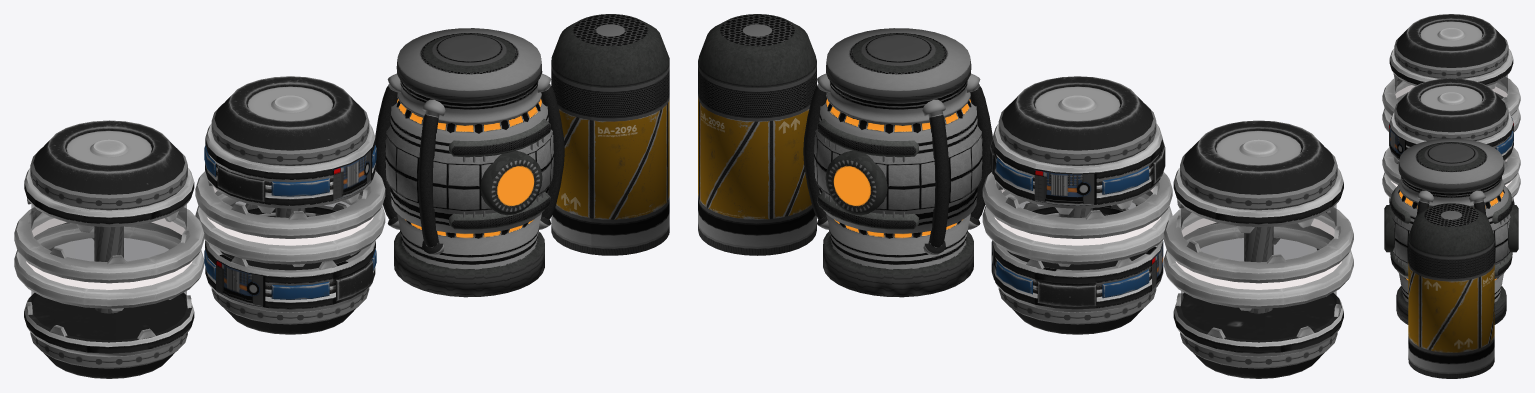
File: sci_-_fi_barrels_pack.glb
3 renders of one model, left to right at view 1: azimuth 30°, elevation 25°; view 2: azimuth 150°, elevation 25°; view 3: azimuth 270°, elevation 25°, orthographic. The views are drawn at different scales.
Visible parts, largest first — view 1: barrel_1, barrel_3_1, barrel_3_2, barrel_2; view 2: barrel_1, barrel_3_1, barrel_3_2, barrel_2; view 3: barrel_2, barrel_1, barrel_3_2, barrel_3_1.
Part boxes in pixels (<box>): barrel_1: <box>375,28,564,297</box>; barrel_3_1: <box>195,76,385,334</box>; barrel_3_2: <box>14,120,204,378</box>; barrel_2: <box>551,14,669,255</box>; barrel_1: <box>803,28,992,297</box>; barrel_3_1: <box>982,76,1172,334</box>; barrel_3_2: <box>1163,120,1353,378</box>; barrel_2: <box>698,14,816,255</box>; barrel_2: <box>1408,203,1494,378</box>; barrel_1: <box>1384,138,1518,324</box>; barrel_3_2: <box>1382,14,1520,131</box>; barrel_3_1: <box>1382,78,1520,204</box>.
Size of the model in its own units: 9.96 by 3.27 by 2.58.
5 materials, 3 textured.
